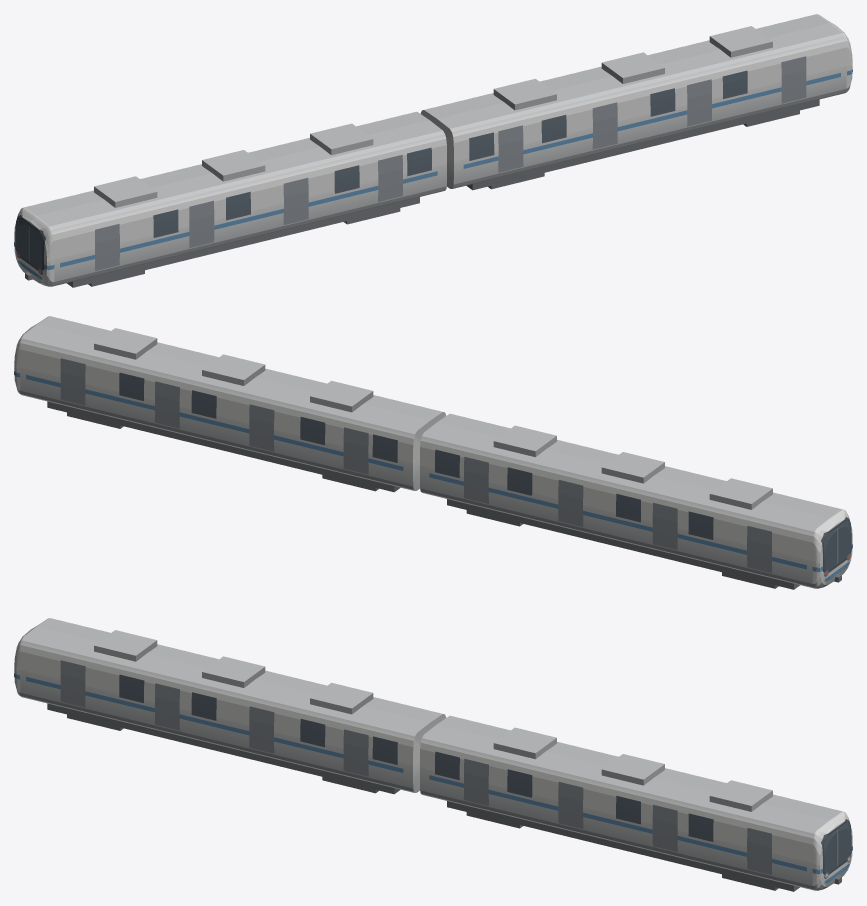
Rendered from 06_more_transit_3x2-05.glb.
3 renders of one model, top to bottom at view 1: azimuth 30°, elevation 25°; view 2: azimuth 150°, elevation 25°; view 3: azimuth 330°, elevation 25°, orthographic.
Bounding box in the file's own units: 42.68 × 3.88 × 3.14.
